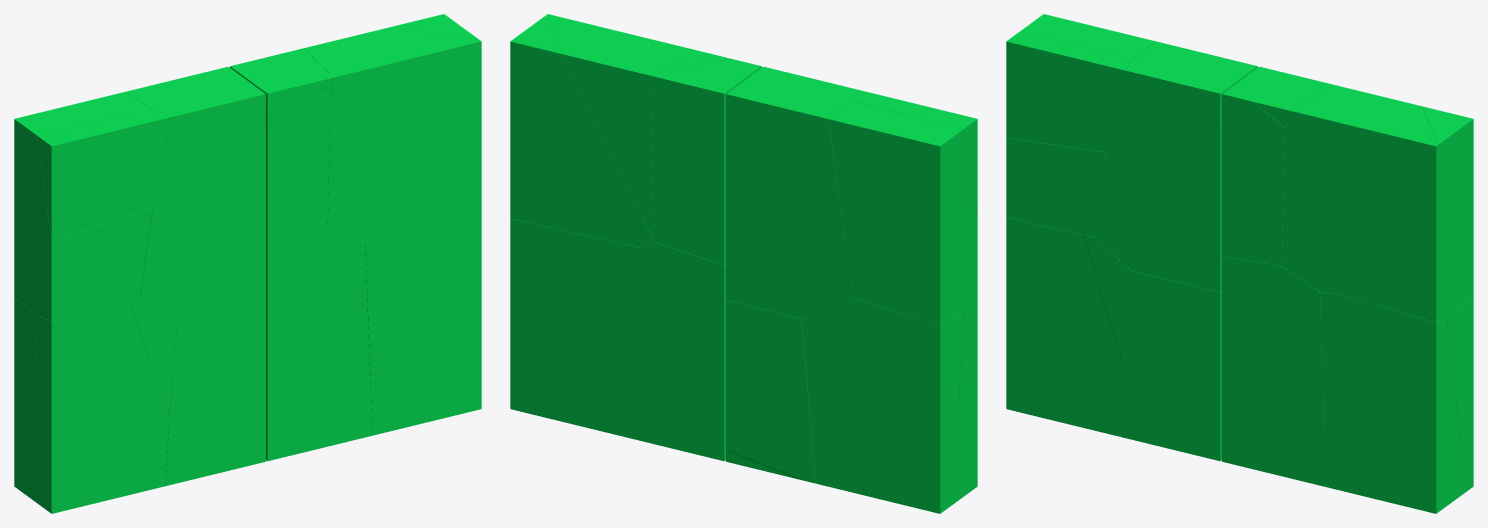
Rendered from BreakableWall2.fbx.
3 renders of one model, left to right at view 1: azimuth 30°, elevation 25°; view 2: azimuth 150°, elevation 25°; view 3: azimuth 330°, elevation 25°, orthographic.
Visible parts, largest first — view 1: Cube.060_cell.007, Cube.060_cell, Cube.059_cell.005, Cube.059_cell.004, Cube.059_cell, Cube.060_cell.003, Cube.060_cell.004, Cube.060_cell.001, Cube.059_cell.003, Cube.059_cell.007, Cube.060_cell.002, Cube.059_cell.001; view 2: Cube.060_cell.002, Cube.060_cell.007, Cube.060_cell.003, Cube.059_cell.006, Cube.059_cell.007, Cube.059_cell, Cube.059_cell.003, Cube.060_cell.004, Cube.059_cell.005, Cube.059_cell.004, Cube.060_cell, Cube.060_cell.001 (+1 smaller); view 3: Cube.060_cell.007, Cube.059_cell.004, Cube.059_cell.005, Cube.059_cell, Cube.060_cell, Cube.060_cell.004, Cube.059_cell.007, Cube.059_cell.003, Cube.060_cell.001, Cube.060_cell.003, Cube.059_cell.006, Cube.060_cell.002 (+1 smaller).
Boxes of the visible parts, x1,y1,x2,y2 form: Cube.060_cell.007: (126,66,265,314); Cube.060_cell: (27,302,169,513); Cube.059_cell.005: (304,26,481,243); Cube.059_cell.004: (365,217,481,435); Cube.059_cell: (266,236,372,461); Cube.060_cell.003: (14,91,152,321); Cube.060_cell.004: (165,292,265,485); Cube.060_cell.001: (37,109,171,242); Cube.059_cell.003: (230,48,330,255); Cube.059_cell.007: (388,14,481,235); Cube.060_cell.002: (14,297,177,495); Cube.059_cell.001: (299,54,333,96); Cube.060_cell.002: (802,298,963,513); Cube.060_cell.007: (726,67,857,318); Cube.060_cell.003: (828,101,977,324); Cube.059_cell.006: (510,218,640,420); Cube.059_cell.007: (510,16,654,247); Cube.059_cell: (631,242,725,461); Cube.059_cell.003: (650,58,761,264); Cube.060_cell.004: (726,300,815,483); Cube.059_cell.005: (546,14,695,238); Cube.059_cell.004: (559,335,634,438); Cube.060_cell: (953,295,977,503); Cube.060_cell.001: (852,90,977,213); Cube.060_cell.007: (1094,41,1257,291); Cube.059_cell.004: (1320,292,1466,513); Cube.059_cell.005: (1282,85,1437,295); Cube.059_cell: (1222,256,1326,487); Cube.060_cell: (1006,217,1123,436); Cube.060_cell.004: (1120,271,1221,461); Cube.059_cell.007: (1343,106,1473,322); Cube.059_cell.003: (1222,66,1333,266); Cube.060_cell.001: (1006,31,1131,152); Cube.060_cell.003: (1006,14,1154,236); Cube.059_cell.006: (1446,296,1473,491); Cube.060_cell.002: (1083,235,1132,368).
Bounding box in the file's own units: 544 × 445 × 82.4.
